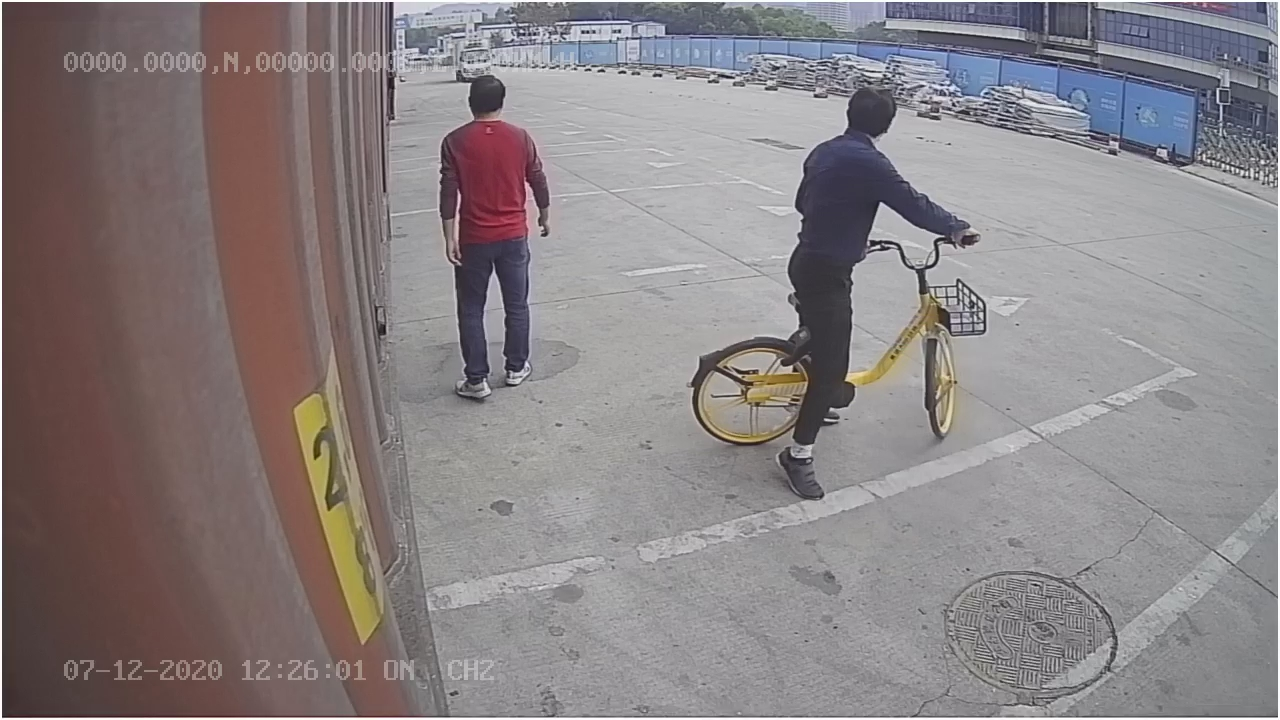person: (431, 71, 559, 406)
